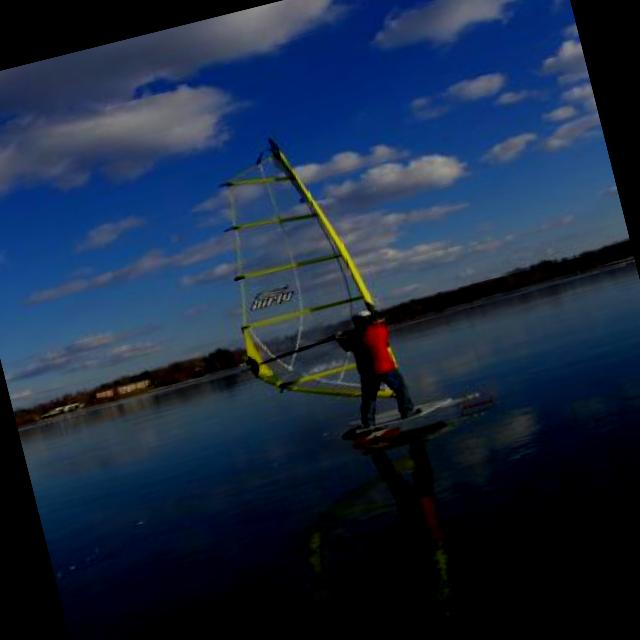Person: (328, 303, 419, 427)
